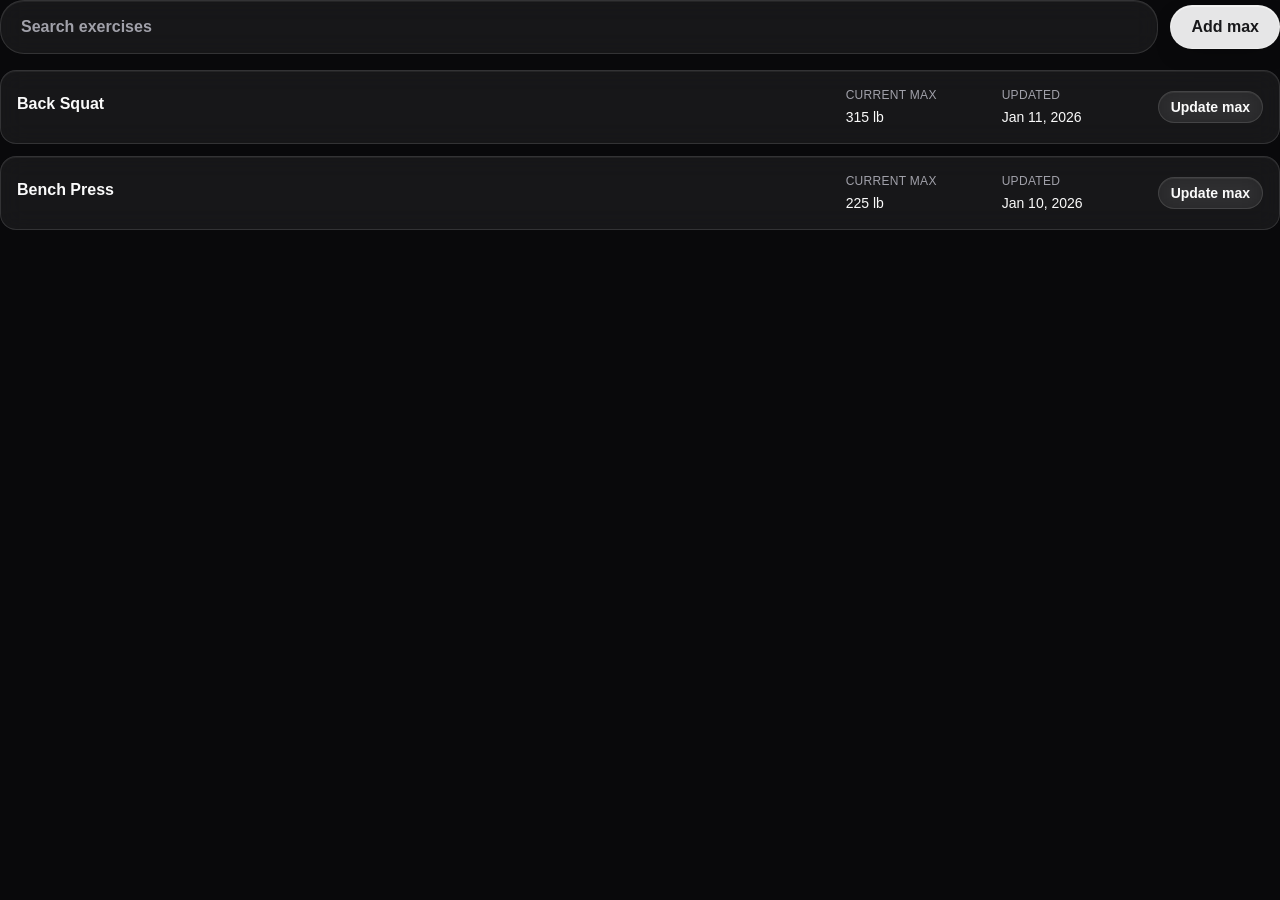
Test: CoachAthleteMaxesTab › filters maxes and opens the add modal
Expected: the heading "Bench Press" is shown, [17,178,114,202]
Expected: the heading "Back Squat" is shown, [17,92,104,116]
In the search field named "Search maxes": (579, 27) [0,0,1158,54], type "bench"
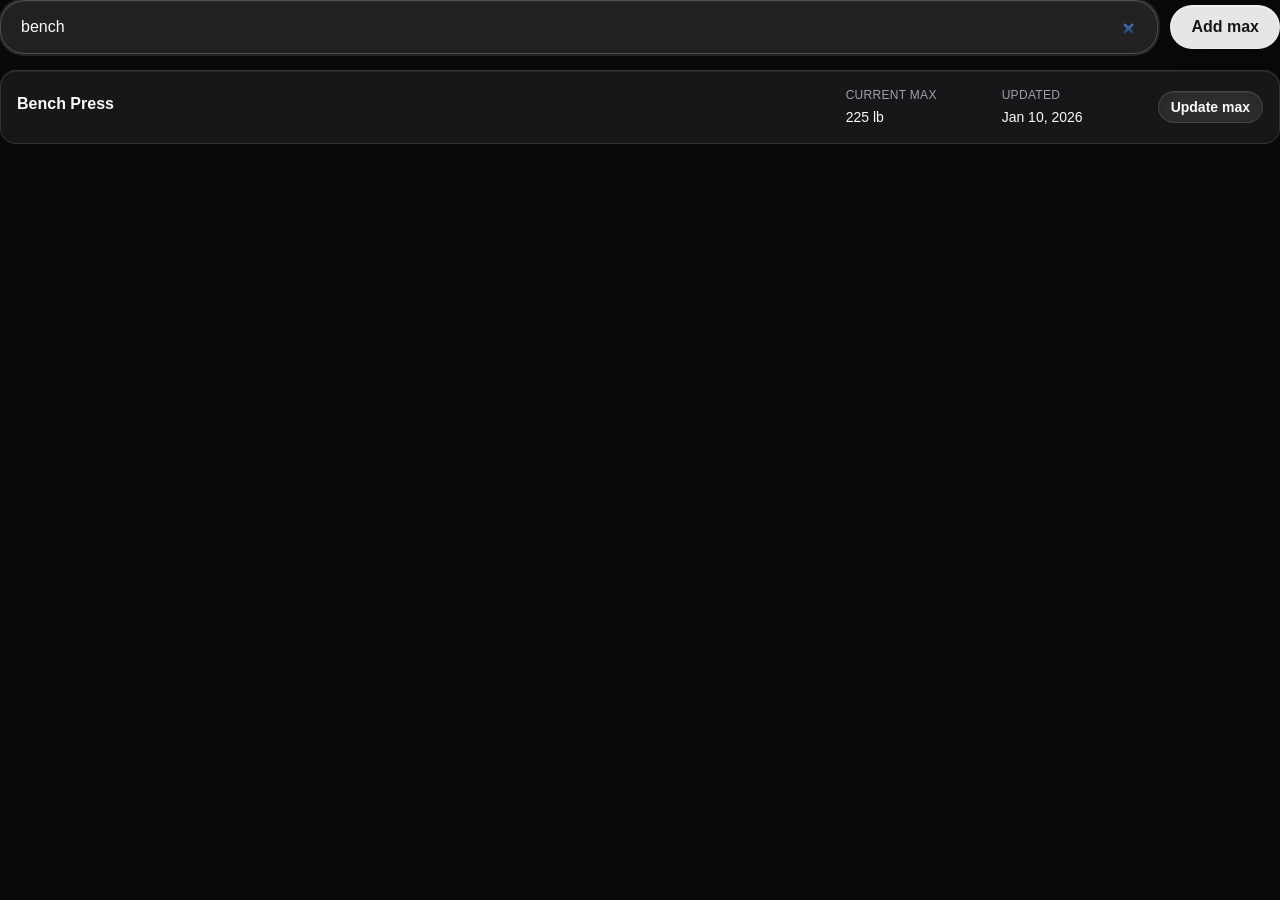
Expected: the heading "Bench Press" is shown, [17,92,114,116]
Now the button "Back Squat" is gone
Click the button "Add max": click(1225, 27) [1170,5,1279,49]
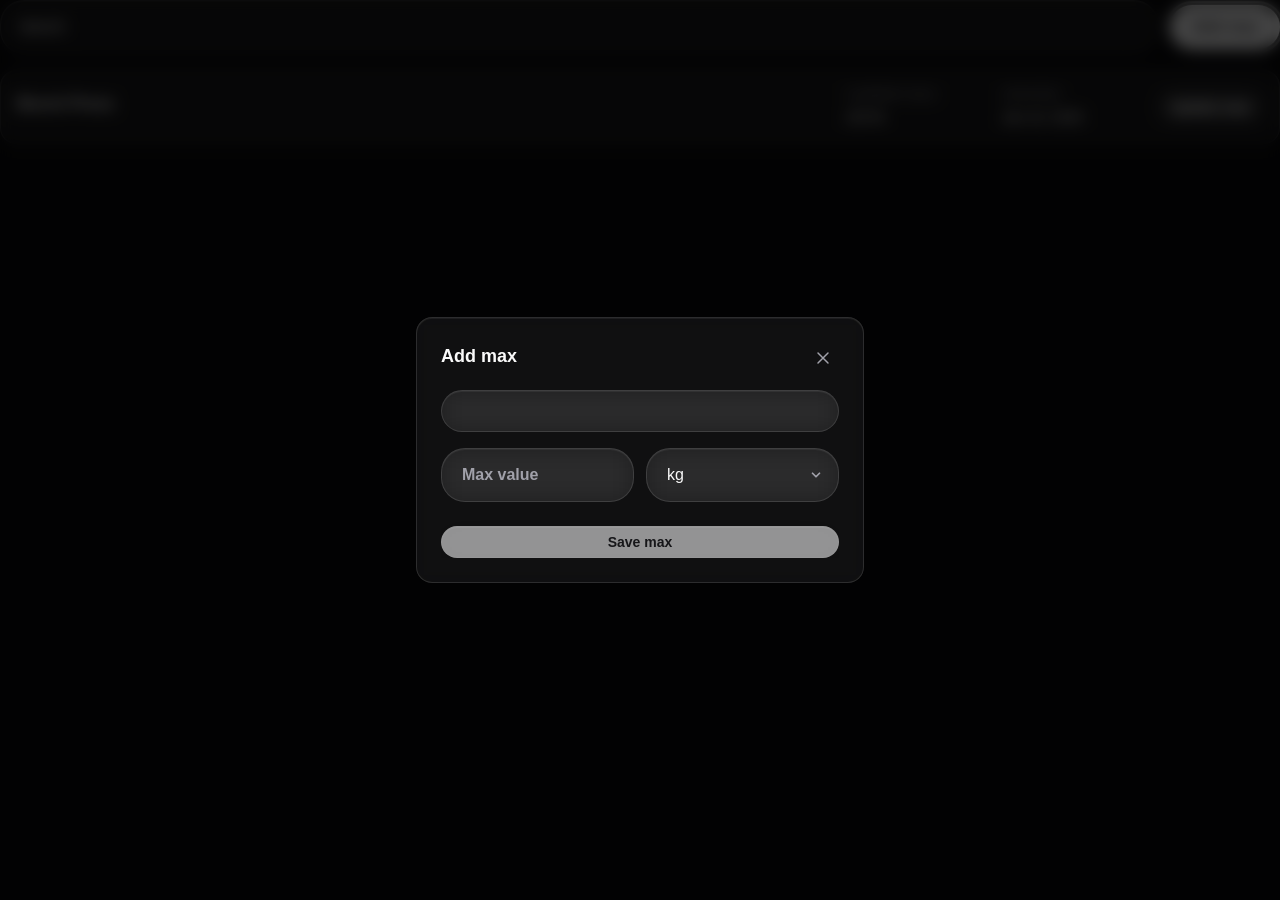
Now the dialog "Add max" is shown, box [416,317,864,583]
